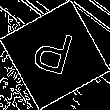P_S: (30, 26, 80, 84)
